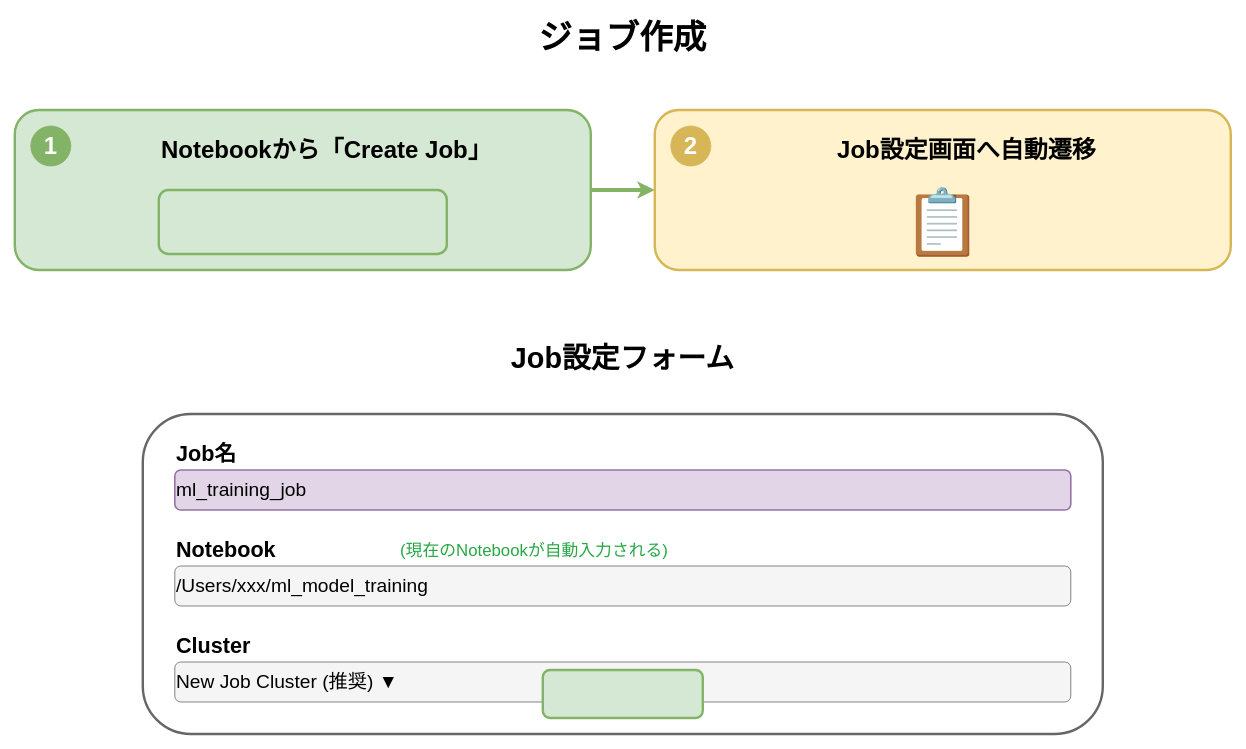
The diagram is 1246 pixels wide and 749 high, and some of its shapes have lost their labels. Each missing label, with the centre of its shape:
Create: pixel 622 693
Create Job: pixel 302 221
